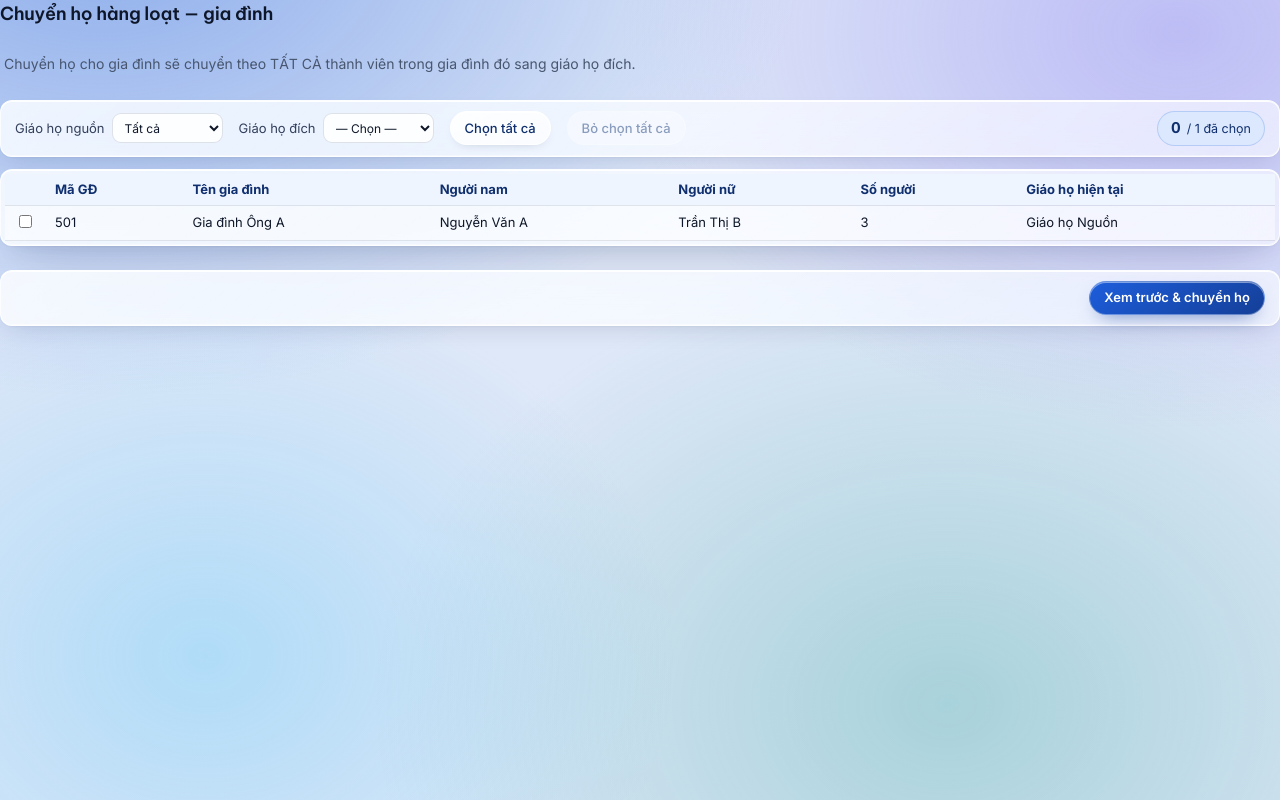
ChuyenHoGiaDinh › xem truoc hien ca so gia dinh lan so thanh vien bi keo theo truoc khi ghi that
Expected: the text "Gia đình Ông A" is shown, [182,206,430,240]
Click the checkbox named "Chọn Gia đình Ông A": (26, 222) [19,215,32,228]
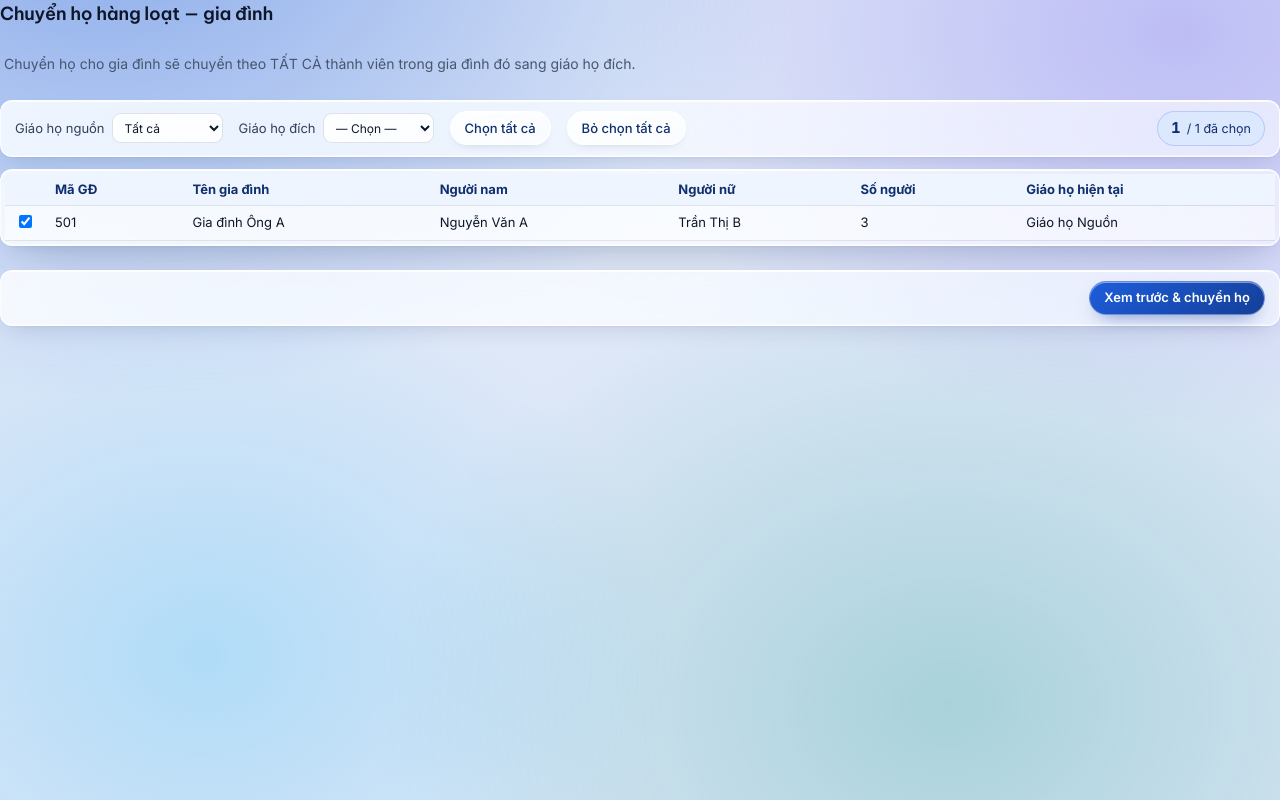
Select "Giáo họ Đích" in the dropdown labelled "Giáo họ đích": (378, 128) [322,113,434,143]
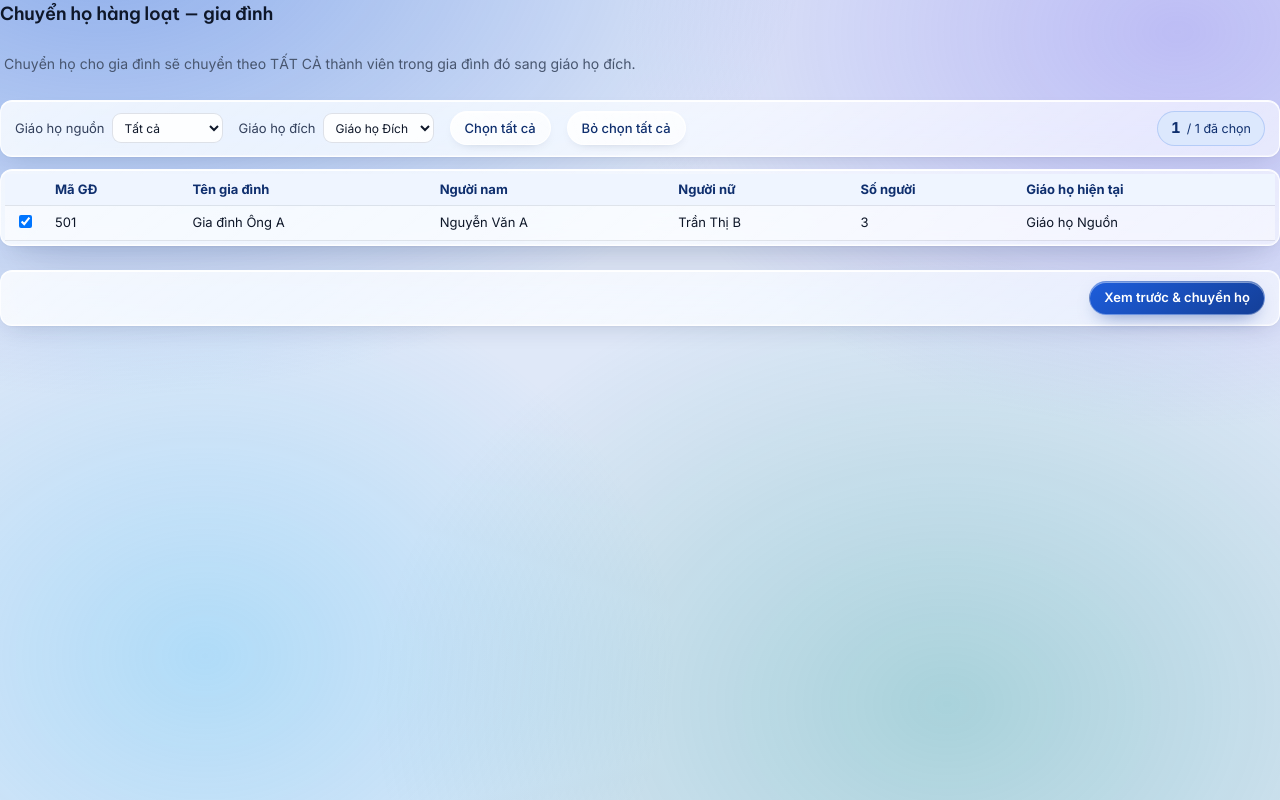
Click the button "Xem trước & chuyển họ": (1177, 298) [1089,280,1265,314]
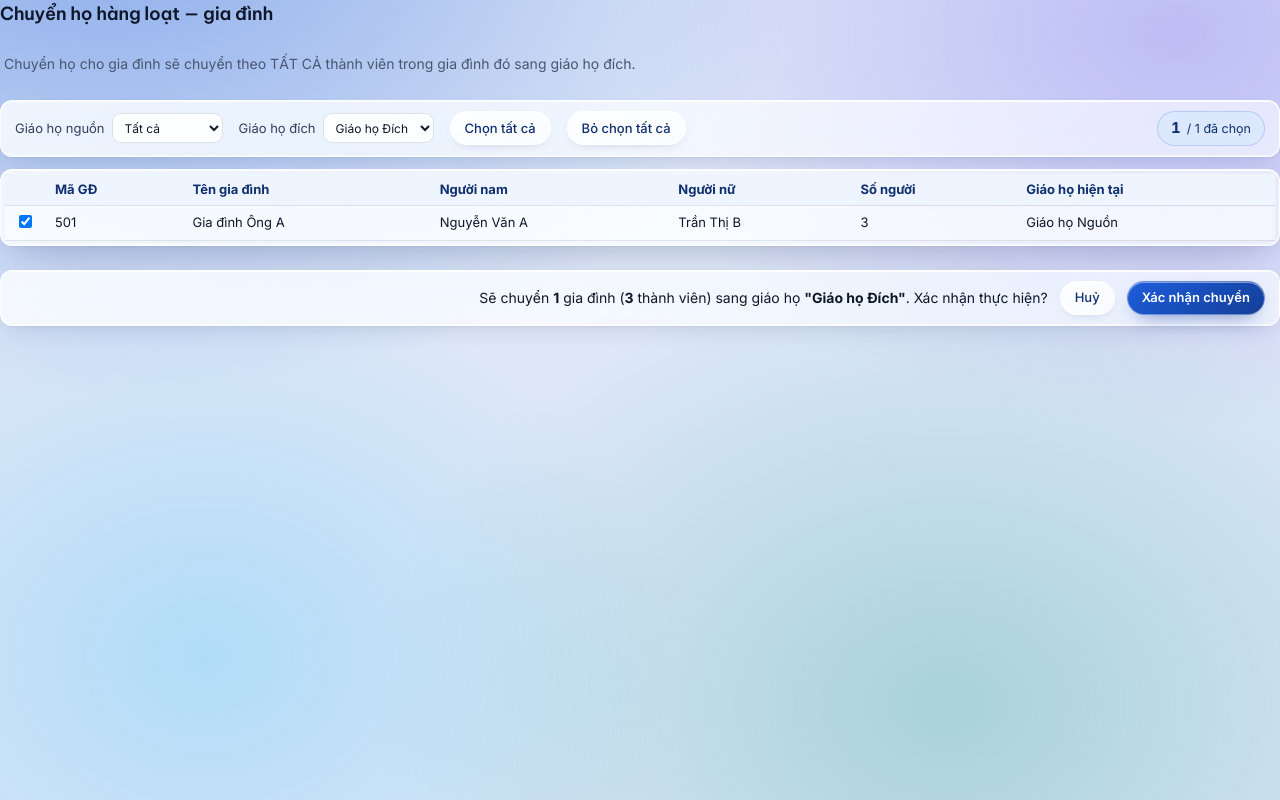
Expected: the text "Sẽ chuyển" shows "1", [553,289,559,306]
Expected: the text "Sẽ chuyển" shows "3", [624,289,634,306]
Click the button "Xác nhận chuyển": (1196, 298) [1127,280,1265,314]
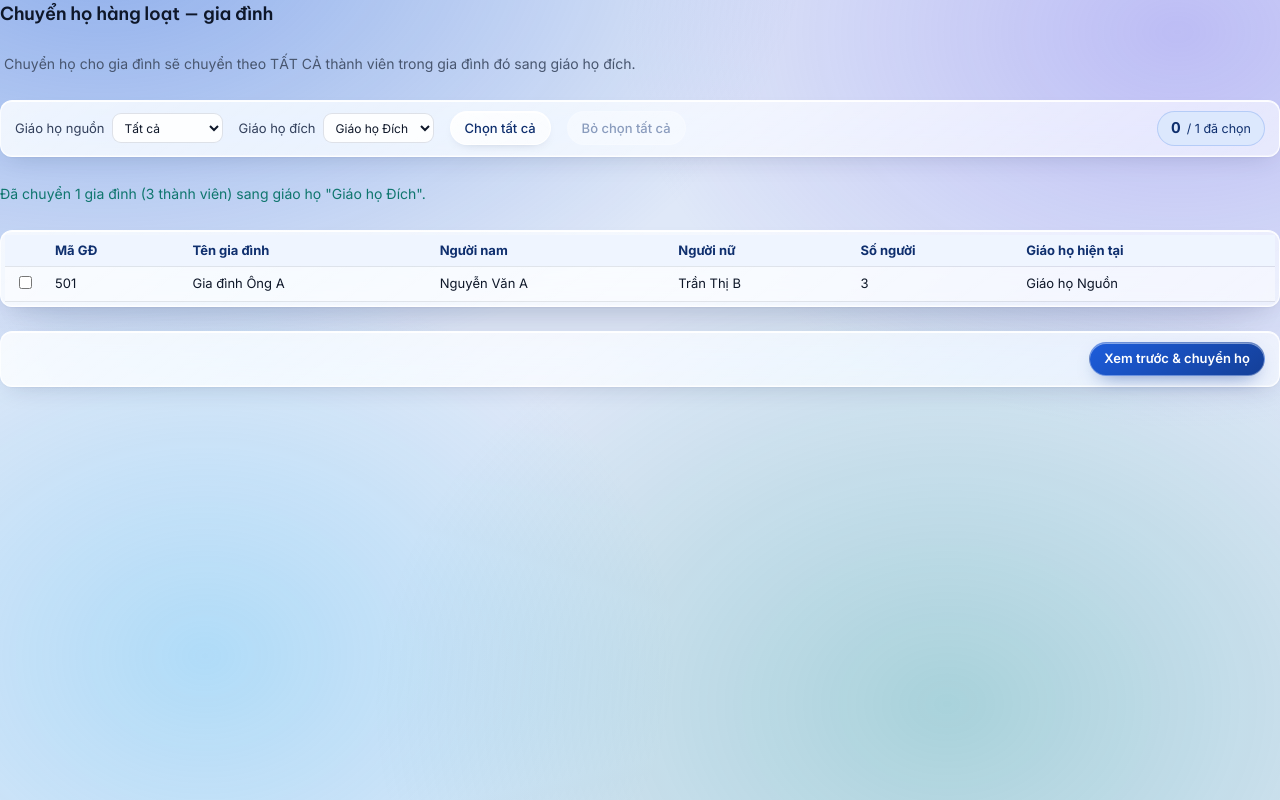
Expected: the text "Đã chuyển 1 gia đình (3 thành viên)" is shown, [0,184,426,202]
